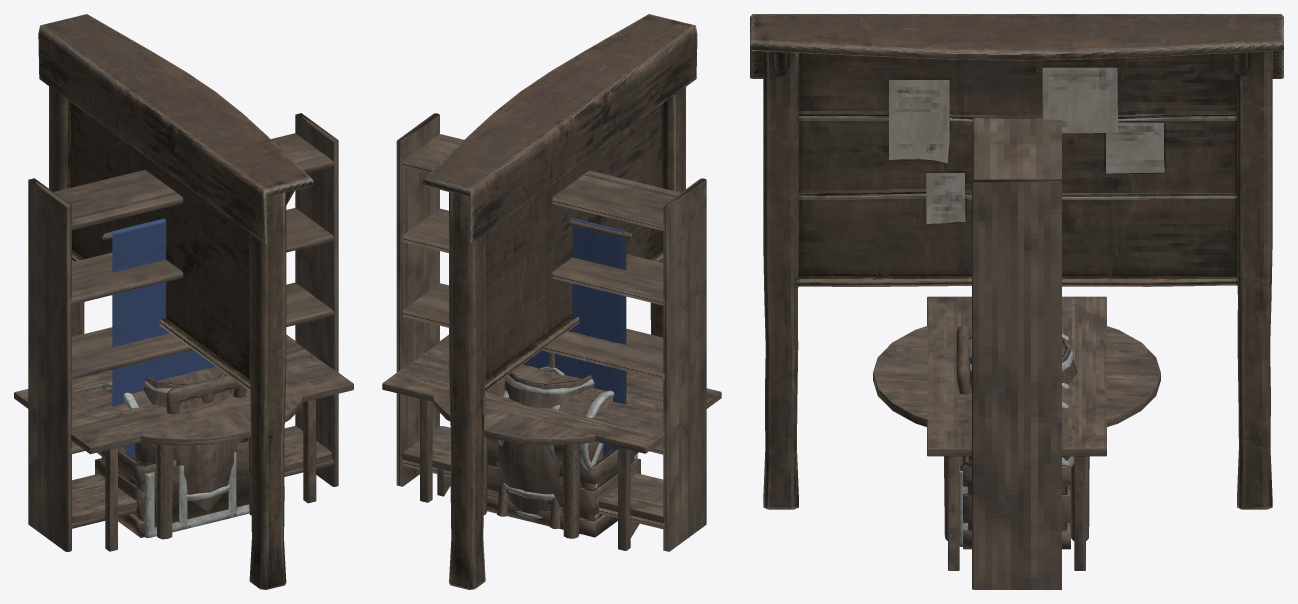
File: interior.glb
3 renders of one model, left to right at view 1: azimuth 30°, elevation 25°; view 2: azimuth 150°, elevation 25°; view 3: azimuth 270°, elevation 25°, orthographic. The views are drawn at different scales.
Visible parts, largest first — view 1: Notice Board, Bookshelf, Table - Rectangular, Tapestry, Barrel, Table - Round, Chest, Shelf, Crate, Chair, Chest Lid; view 2: Notice Board, Bookshelf, Table - Rectangular, Tapestry, Barrel, Table - Round, Crate, Shelf, Chest Lid, Chair; view 3: Notice Board, Bookshelf, Table - Rectangular, Table - Round, Crate, Chair.
Part boxes in pixels (left/top/right/bottom): Notice Board: left=38, top=14, right=313, bottom=589; Bookshelf: left=28, top=113, right=338, bottom=551; Table - Rectangular: left=14, top=334, right=353, bottom=551; Tapestry: left=102, top=218, right=215, bottom=459; Barrel: left=125, top=366, right=242, bottom=511; Table - Round: left=72, top=390, right=303, bottom=539; Chest: left=104, top=438, right=249, bottom=537; Shelf: left=72, top=425, right=331, bottom=523; Crate: left=95, top=440, right=248, bottom=537; Chair: left=166, top=375, right=246, bottom=528; Chest Lid: left=101, top=381, right=151, bottom=408; Notice Board: left=422, top=14, right=697, bottom=589; Bookshelf: left=396, top=113, right=706, bottom=551; Table - Rectangular: left=382, top=335, right=721, bottom=550; Tapestry: left=523, top=218, right=632, bottom=457; Barrel: left=496, top=364, right=609, bottom=519; Table - Round: left=432, top=370, right=595, bottom=538; Crate: left=487, top=443, right=640, bottom=537; Shelf: left=401, top=426, right=664, bottom=537; Chest Lid: left=486, top=378, right=614, bottom=470; Chair: left=493, top=444, right=563, bottom=528; Notice Board: left=750, top=14, right=1283, bottom=509; Bookshelf: left=972, top=118, right=1061, bottom=589; Table - Rectangular: left=927, top=296, right=1106, bottom=570; Table - Round: left=873, top=326, right=1160, bottom=540; Crate: left=963, top=456, right=1070, bottom=549; Chair: left=956, top=324, right=971, bottom=394.
Bounding box in the file's own units: 1.92 × 2.73 × 2.76.
9 materials, 9 textured.
